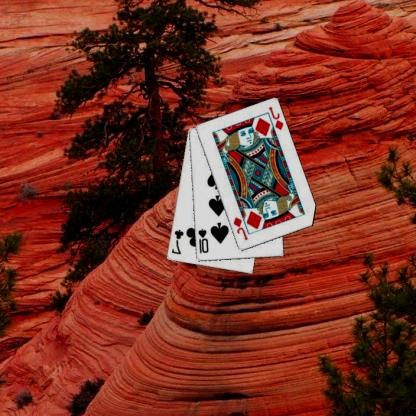10S: (197, 226, 211, 255)
7C: (170, 227, 186, 256)
JD: (232, 214, 251, 242), (268, 105, 286, 131)
